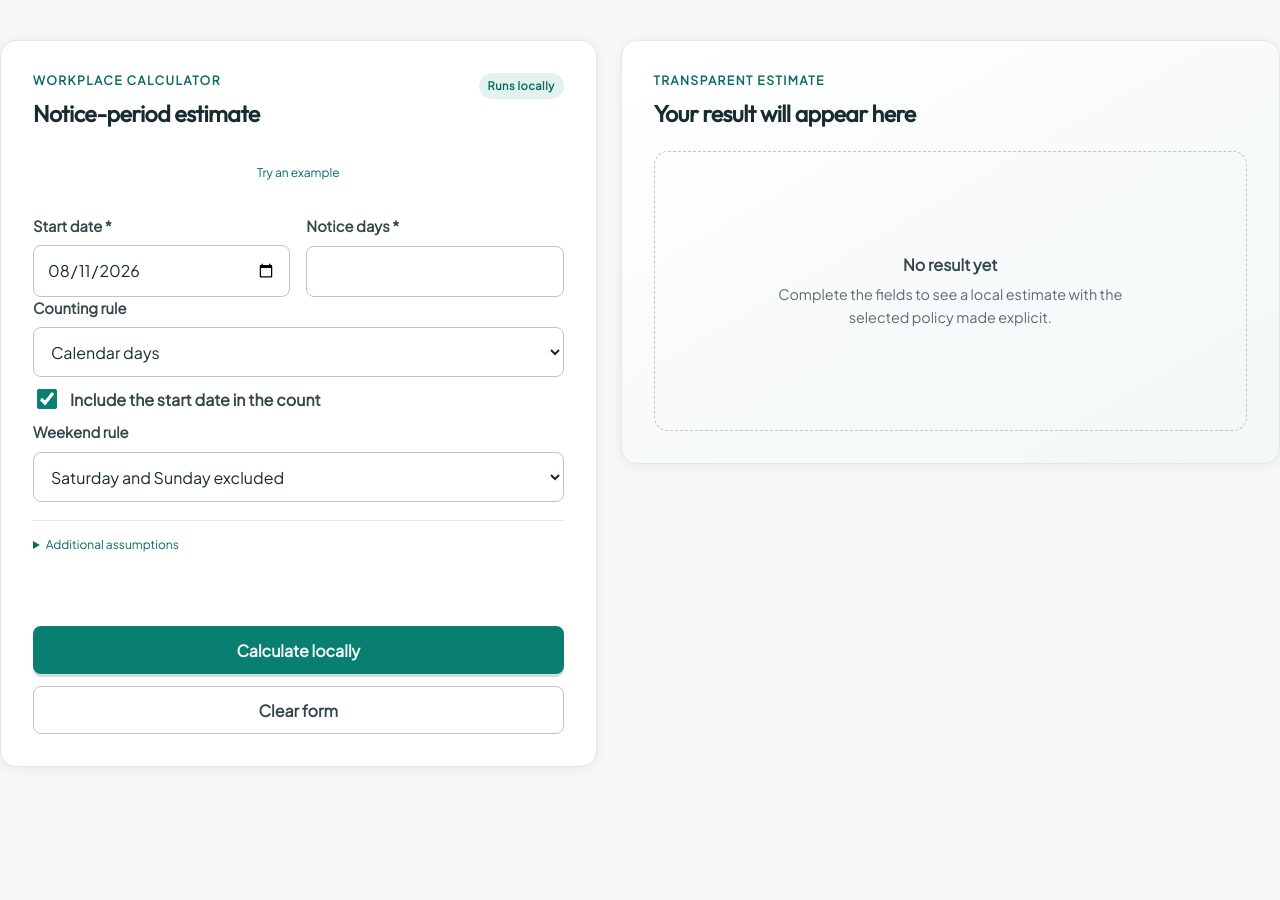
retail and workplace tool forms › calculates notice-period estimates without exposing raw inputs to analytics
Click the button "Try an example" at (298, 173), box [33,151,564,195]
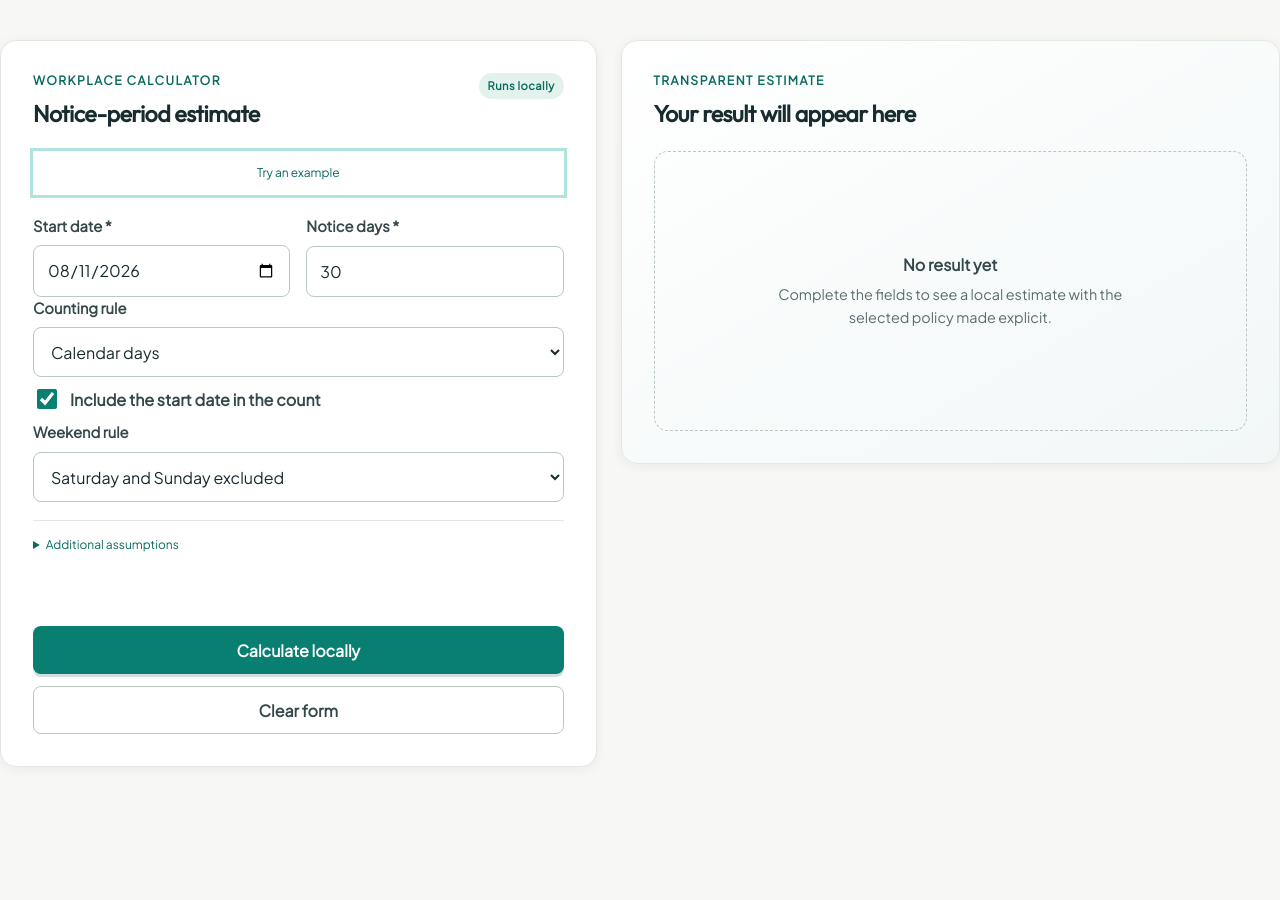
Click the button "Calculate locally" at (298, 650), box [33,626,564,674]
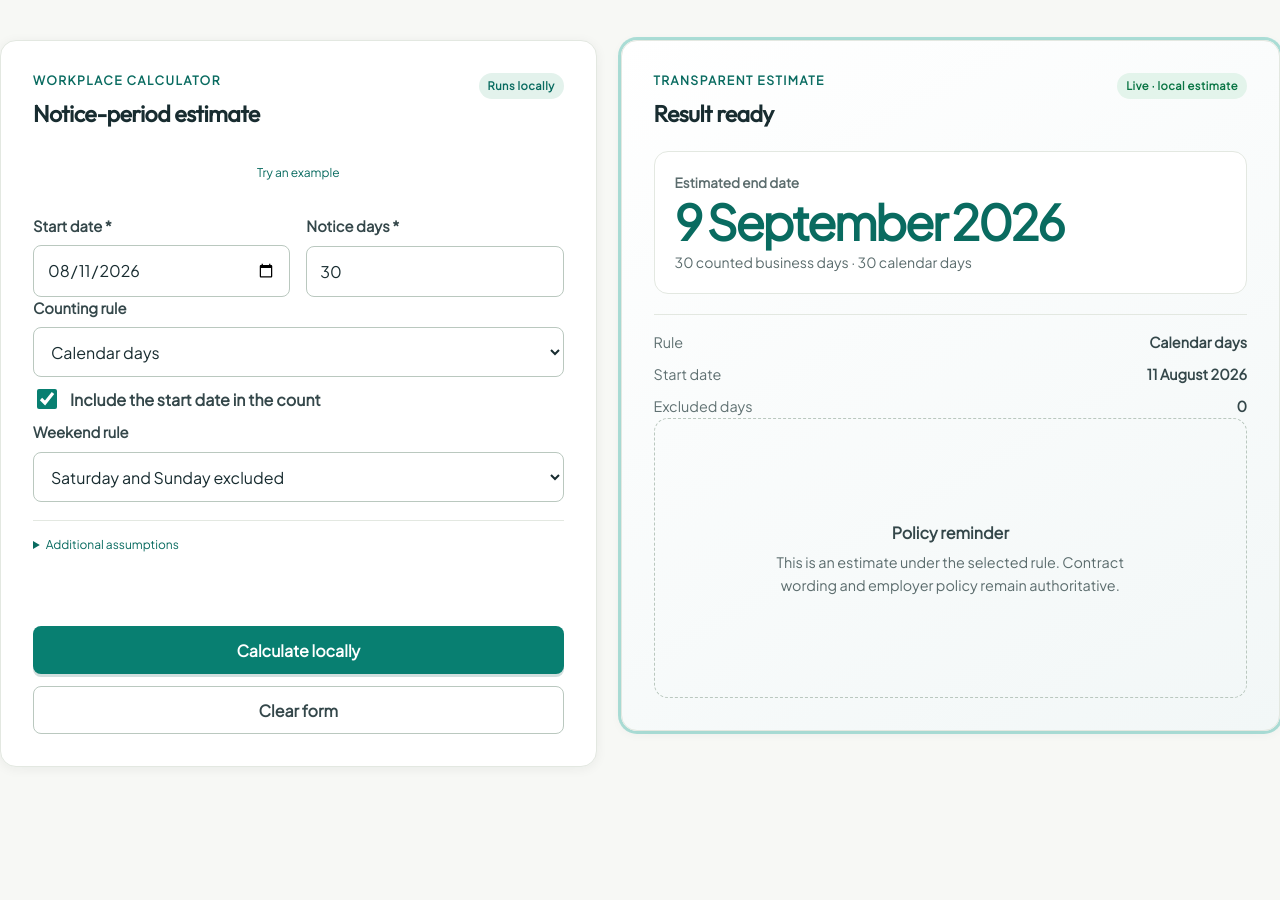
Now the text "9 September 2026" is shown, box [675,191,1063,252]
Now the text "Contract wording and employer policy remain authoritative" is shown, box [776,553,1124,594]
